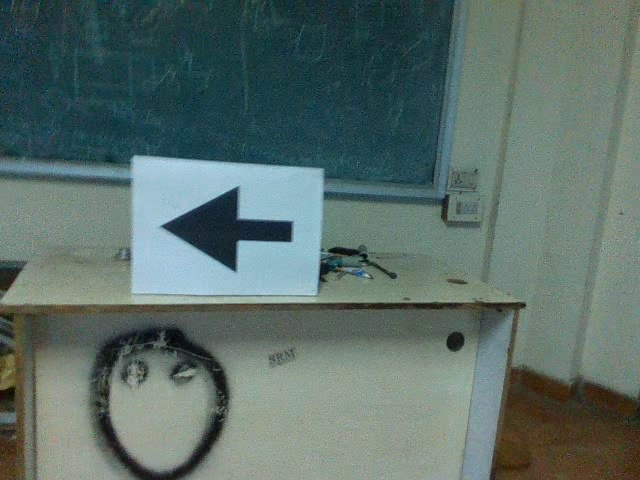Left: (146, 180, 299, 278)
